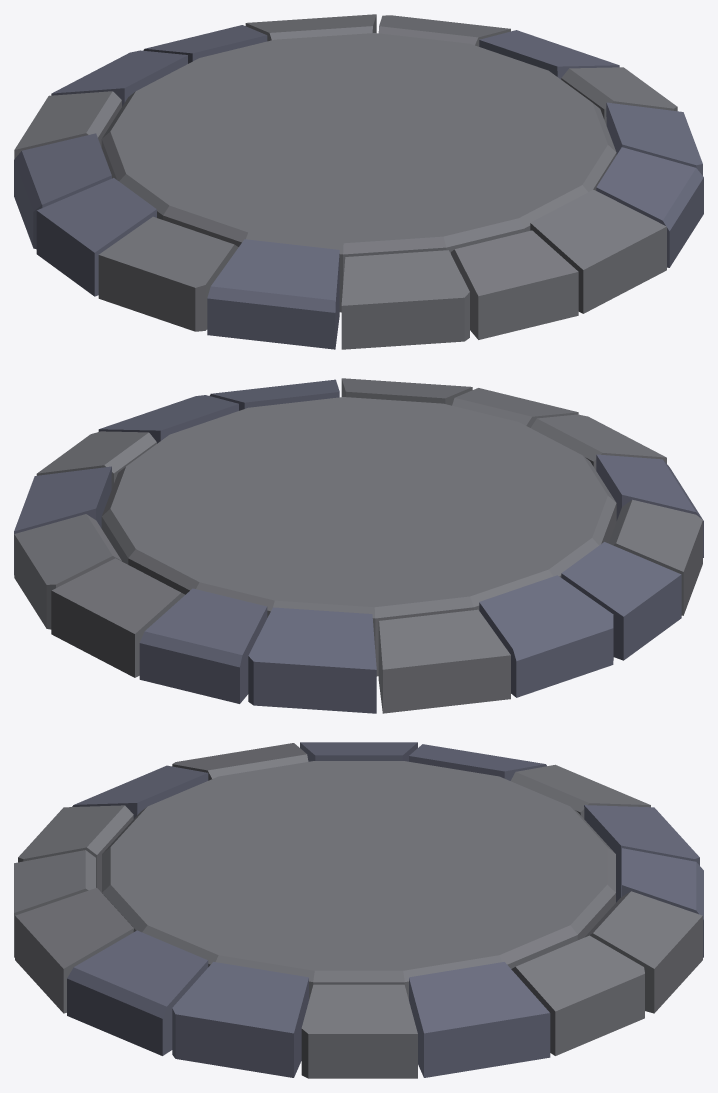
The model's file is Elevation_Circle.fbx.
3 views of the same model, one above another, from view 1: azimuth 30°, elevation 25°; view 2: azimuth 150°, elevation 25°; view 3: azimuth 270°, elevation 25° (orthographic).
Parts seen in each view (by area): view 1: 1-Elevation_Circle; view 2: 1-Elevation_Circle; view 3: 1-Elevation_Circle.
Boxes of the visible parts, <box> form: 1-Elevation_Circle: <box>14,14,703,349</box>; 1-Elevation_Circle: <box>14,378,703,713</box>; 1-Elevation_Circle: <box>14,742,703,1078</box>.
Bounding box in the file's own units: 2.8 × 2.8 × 0.3.
